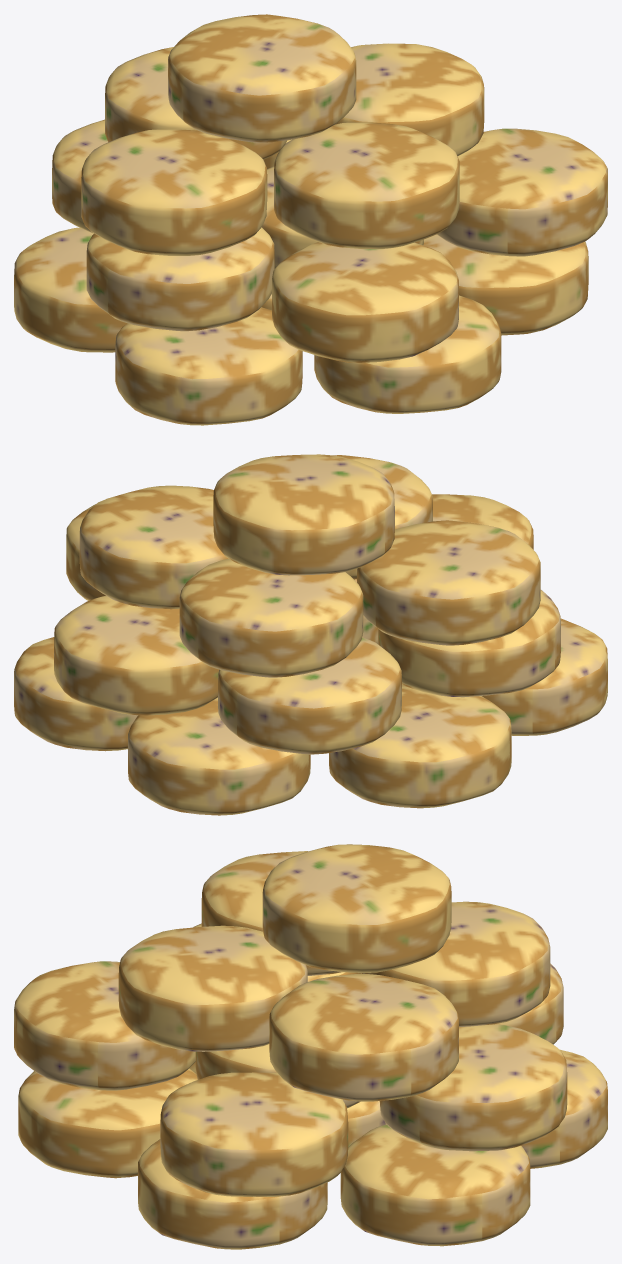
Rendered from Korean_st_meatball.fbx.
The picture shows the model from 3 angles, top to bottom: view 1: azimuth 30°, elevation 25°; view 2: azimuth 150°, elevation 25°; view 3: azimuth 270°, elevation 25°; orthographic projection. The views are drawn at different scales.
Parts seen in each view (by area): view 1: Cylinder.020, Cylinder.017, Cylinder.015, Cylinder.009, Cylinder.010, Cylinder.003, Cylinder.011, Cylinder.002, Cylinder.016, Cylinder.006, Cylinder.004, Cylinder.018 (+2 smaller); view 2: Cylinder.020, Cylinder.017, Cylinder.018, Cylinder.004, Cylinder.013, Cylinder.012, Cylinder.007, Cylinder.016, Cylinder.011, Cylinder.003, Cylinder.008, Cylinder.009 (+2 smaller); view 3: Cylinder.020, Cylinder.016, Cylinder.010, Cylinder.015, Cylinder.008, Cylinder.013, Cylinder.009, Cylinder.018, Cylinder.002, Cylinder.006, Cylinder.007, Cylinder.017 (+3 smaller).
Part boxes in pixels (x1,y1,x2,y2): Cylinder.020: (168,14,356,142); Cylinder.017: (81,129,267,255); Cylinder.015: (274,122,459,248); Cylinder.009: (272,242,458,362); Cylinder.010: (437,128,607,256); Cylinder.003: (115,307,302,425); Cylinder.011: (86,227,274,331); Cylinder.002: (314,295,501,413); Cylinder.016: (335,43,484,155); Cylinder.006: (423,234,588,335); Cylinder.004: (14,227,126,352); Cylinder.018: (105,47,287,159); Cylinder.020: (213,454,394,575); Cylinder.017: (357,520,540,645); Cylinder.018: (179,558,363,677); Cylinder.004: (329,685,511,808); Cylinder.013: (54,595,218,715); Cylinder.012: (218,637,401,754); Cylinder.007: (128,697,310,815); Cylinder.016: (79,485,227,609); Cylinder.011: (378,590,560,697); Cylinder.003: (482,618,607,735); Cylinder.008: (14,637,137,751); Cylinder.009: (432,494,533,549); Cylinder.020: (262,844,451,972); Cylinder.016: (269,974,458,1101); Cylinder.010: (160,1072,348,1196); Cylinder.015: (118,925,307,1051); Cylinder.008: (340,1124,530,1246); Cylinder.013: (379,1024,567,1151); Cylinder.009: (14,961,195,1090); Cylinder.018: (361,901,550,1026); Cylinder.002: (18,1068,197,1178); Cylinder.006: (138,1139,327,1249); Cylinder.007: (521,1049,607,1168); Cylinder.017: (201,851,342,975).
Bounding box in the file's own units: 9.98 × 4.94 × 10.17.
